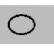no answer: (8, 12, 37, 37)
